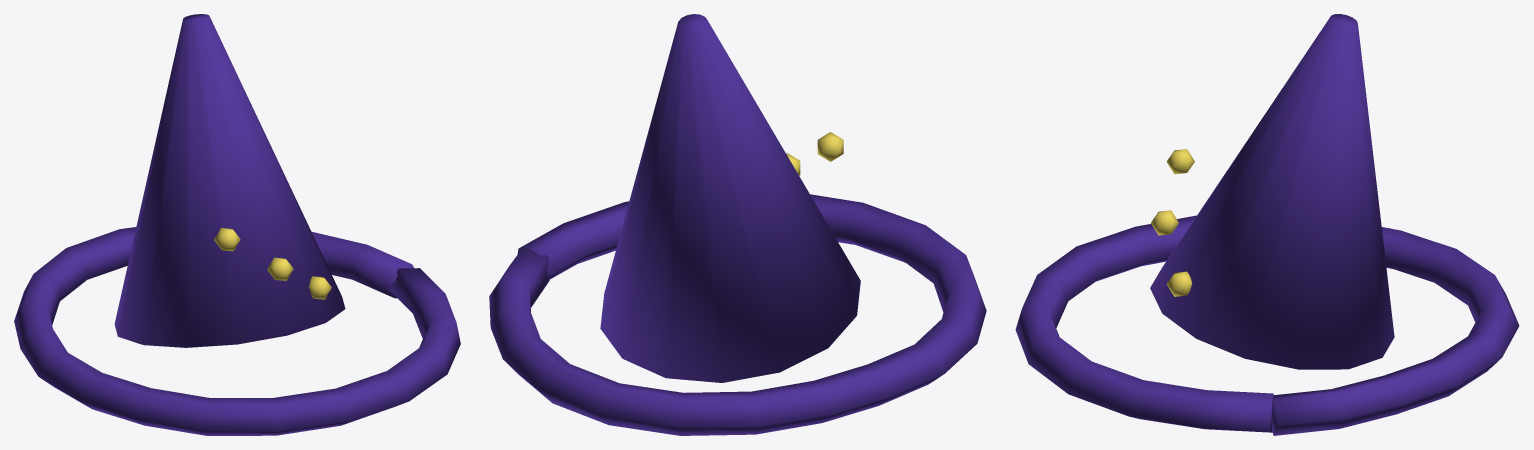
Rendered from wizard_hat_head.glb.
3 renders of one model, left to right at view 1: azimuth 30°, elevation 25°; view 2: azimuth 150°, elevation 25°; view 3: azimuth 270°, elevation 25°, orthographic. The views are drawn at different scales.
Parts seen in each view (by area): view 1: wizard_hat_head; view 2: wizard_hat_head; view 3: wizard_hat_head.
Boxes of the visible parts, x1=… form: wizard_hat_head: x1=14, y1=14, x2=460, y2=435; wizard_hat_head: x1=489, y1=14, x2=986, y2=435; wizard_hat_head: x1=1015, y1=14, x2=1519, y2=435.
Bounding box in the file's own units: 0.3962 × 0.3005 × 0.4225.
